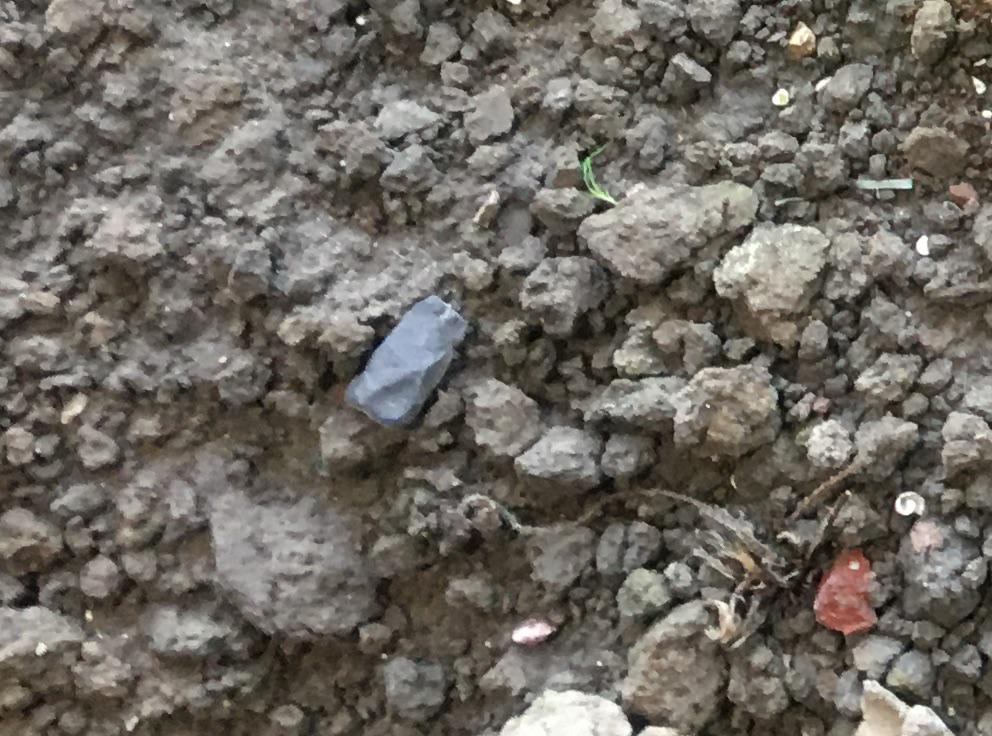block: (199, 489, 385, 645), (573, 179, 762, 285), (715, 218, 825, 357), (618, 594, 728, 732)
